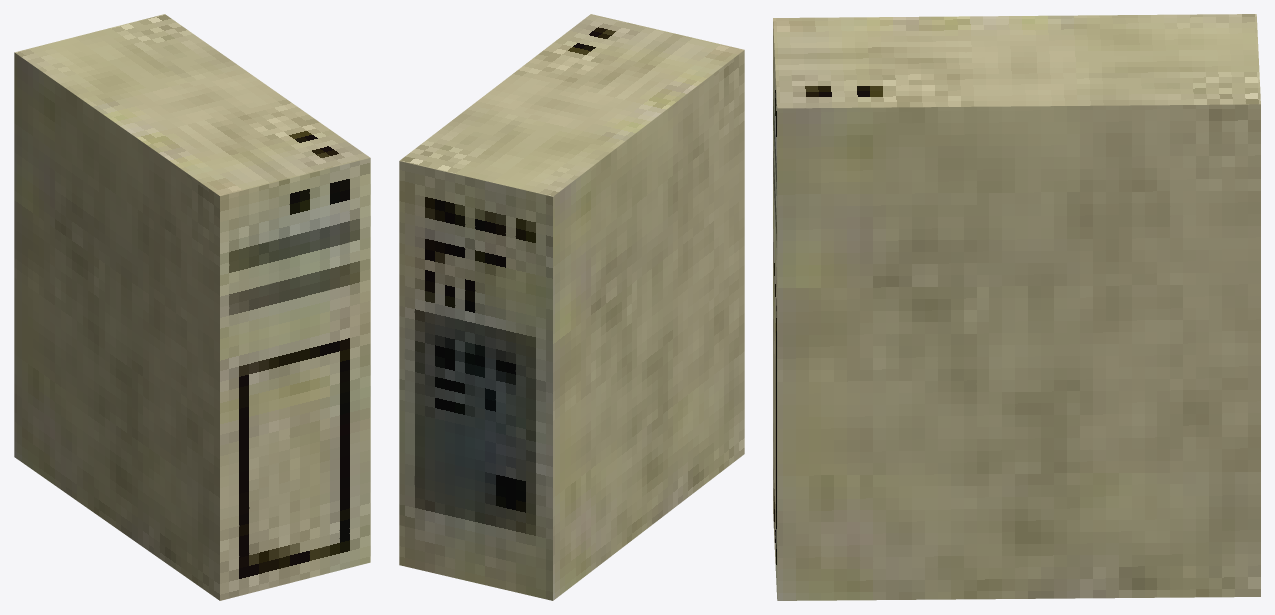
File: PCTower.glb
3 views of the same model, side by side, from view 1: azimuth 30°, elevation 25°; view 2: azimuth 150°, elevation 25°; view 3: azimuth 270°, elevation 25° (orthographic). The views are drawn at different scales.
Parts seen in each view (by area): view 1: PC.005; view 2: PC.005; view 3: PC.005.
Boxes of the visible parts, x1,y1,x2,y2 form: PC.005: (14, 14, 370, 600); PC.005: (399, 14, 744, 600); PC.005: (773, 14, 1260, 600).
Bounding box in the file's own units: 0.2224 × 0.5407 × 0.4855.
1 material, 1 textured.
